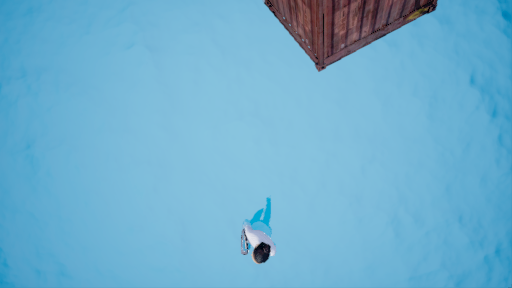person: (225, 197, 281, 263)
